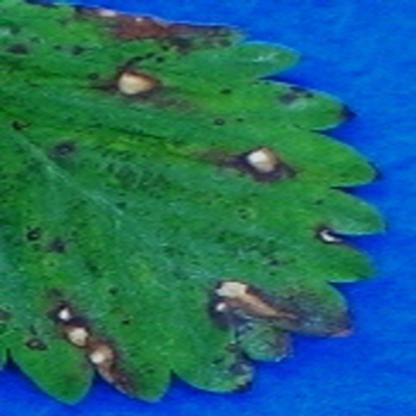Strawberry_Leaf_Spot: (0, 0, 388, 408)
